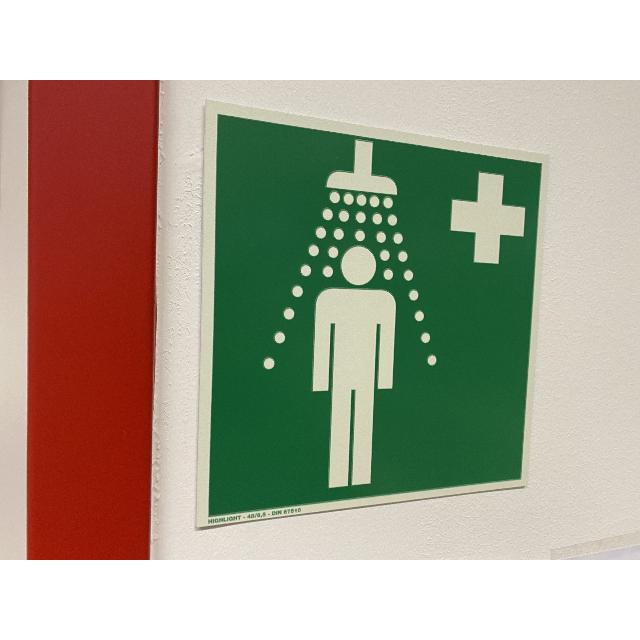shower: (195, 99, 549, 528)
